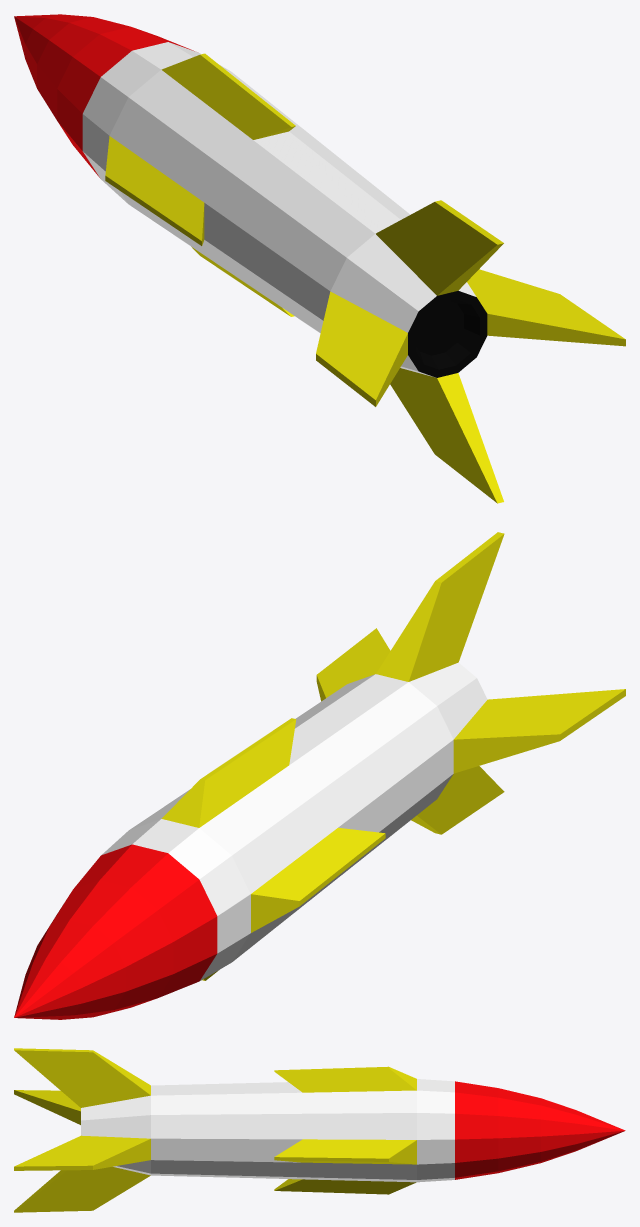
Rendered from Missile.fbx.
3 views of the same model, one above another, from view 1: azimuth 30°, elevation 25°; view 2: azimuth 150°, elevation 25°; view 3: azimuth 270°, elevation 25° (orthographic). The views are drawn at different scales.
Parts seen in each view (by area): view 1: Cone; view 2: Cone; view 3: Cone.
Boxes of the visible parts, x1=… form: Cone: x1=14, y1=14, x2=625, y2=503; Cone: x1=14, y1=532, x2=625, y2=1019; Cone: x1=14, y1=1048, x2=625, y2=1212.
Size of the model in its own units: 61.51 by 60.84 by 208.
